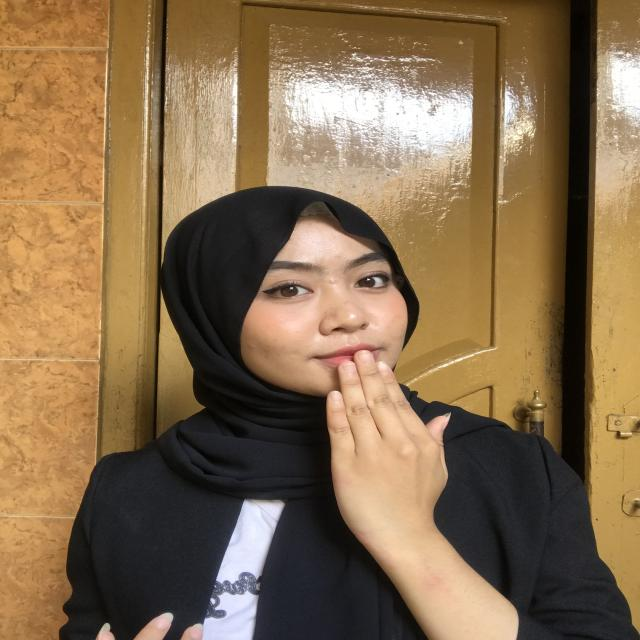ganteng: (309, 344, 472, 543)
